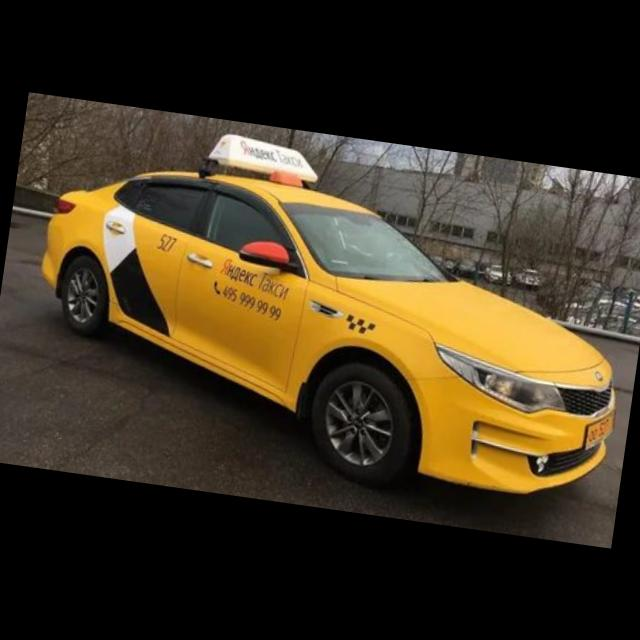taxi: (16, 108, 640, 519)
